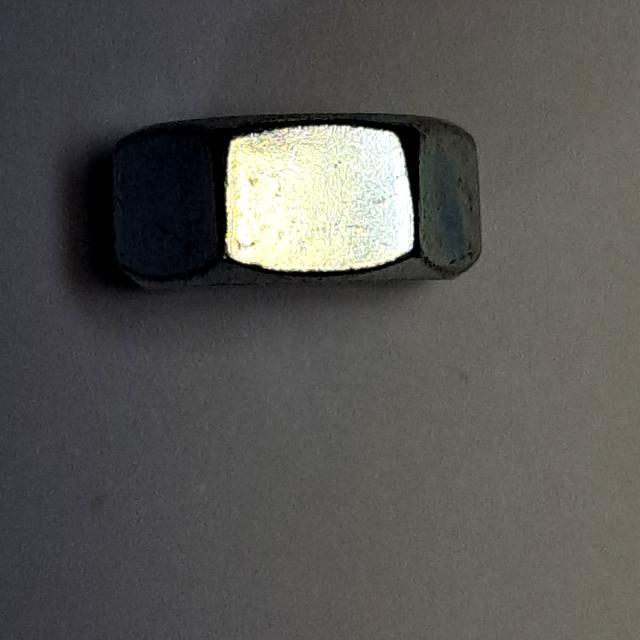Side_Excellent: (96, 85, 503, 315)
